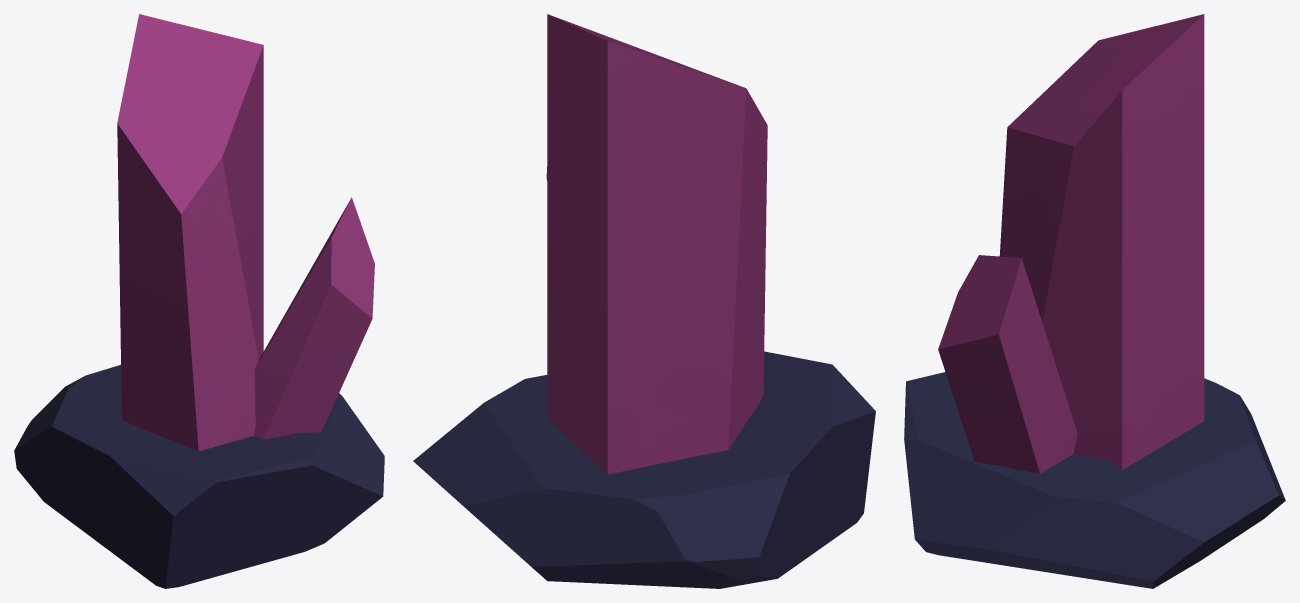
3 renders of one model, left to right at view 1: azimuth 30°, elevation 25°; view 2: azimuth 150°, elevation 25°; view 3: azimuth 270°, elevation 25°, orthographic. The views are drawn at different scales.
Parts seen in each view (by area): view 1: Nó 3; view 2: Nó 3; view 3: Nó 3.
Part boxes in pixels (bbox=[...]): Nó 3: bbox=[14, 14, 384, 588]; Nó 3: bbox=[413, 14, 875, 588]; Nó 3: bbox=[904, 14, 1285, 588].
Size of the model in its own units: 98.26 by 146 by 97.17.
Materials: 2 (1 with a texture image).
